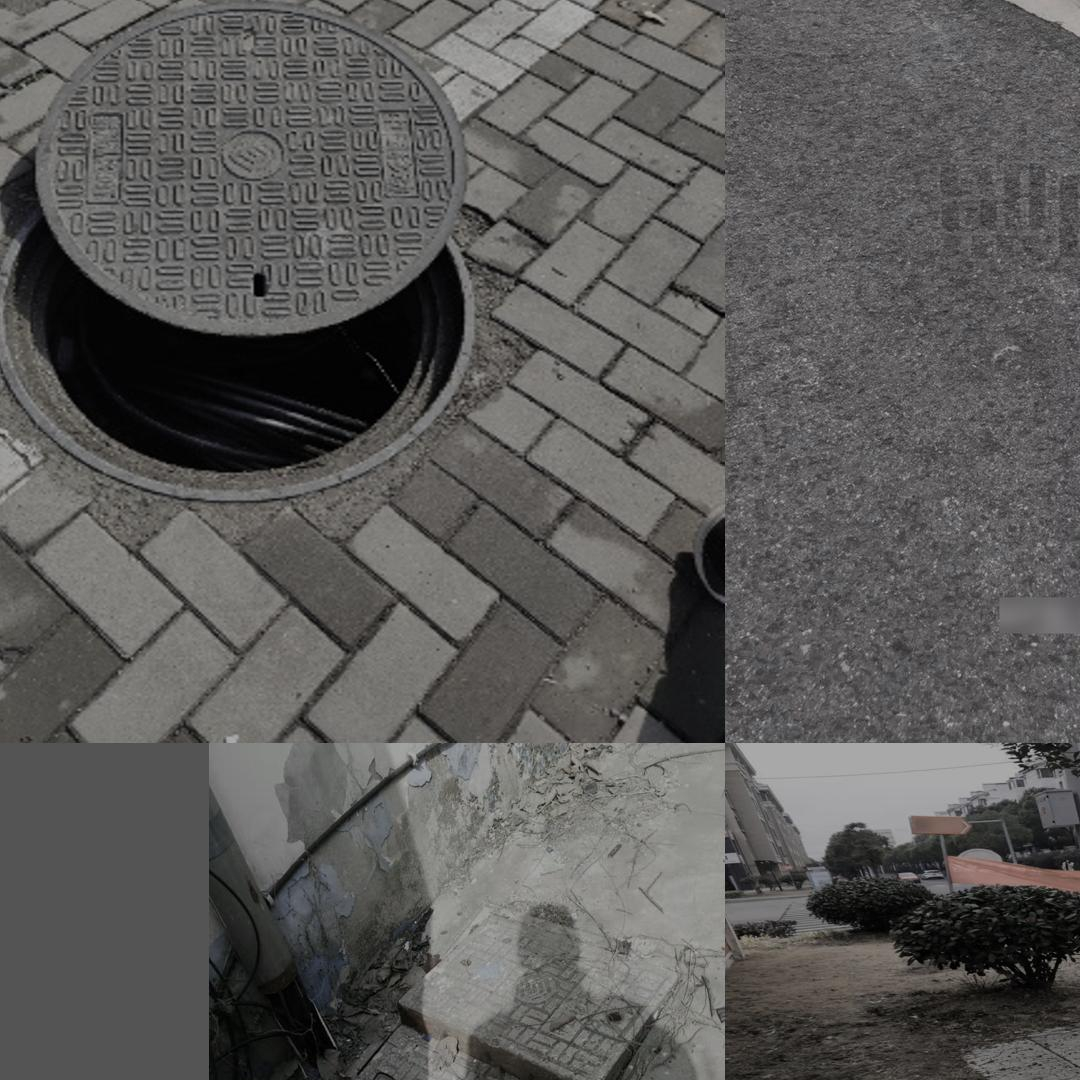uncovered: (0, 15, 526, 498), (289, 903, 677, 1080), (964, 1012, 1080, 1080)
